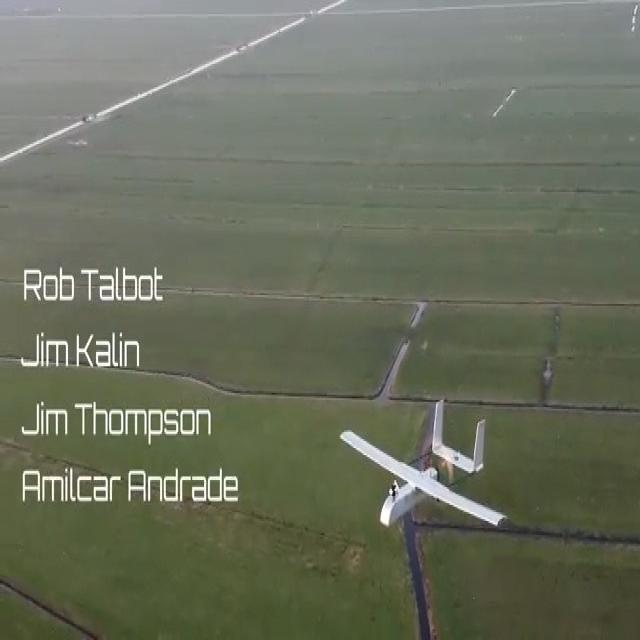iha: (342, 397, 510, 540)
